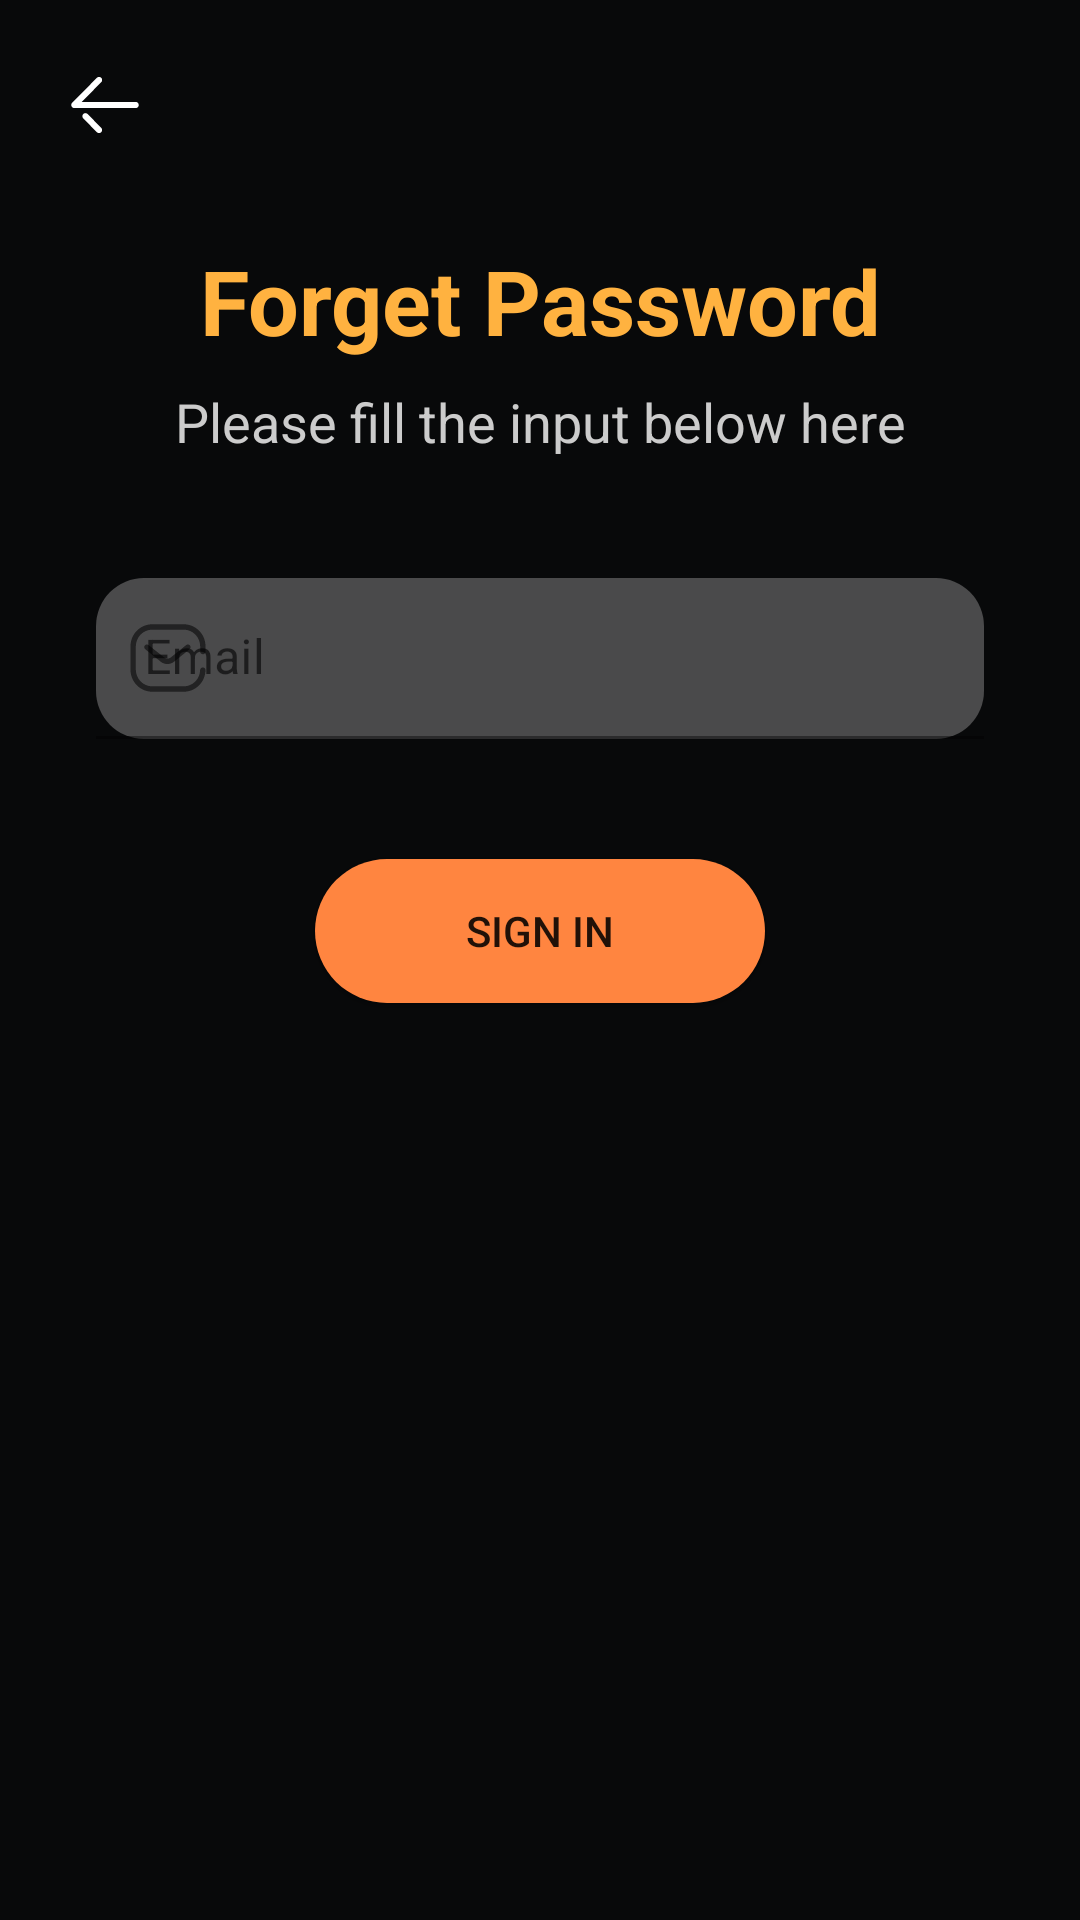

Screen size 1080 × 1920. Icon name, then its center in pixels as (x,y):
arrow left: (105,105)
